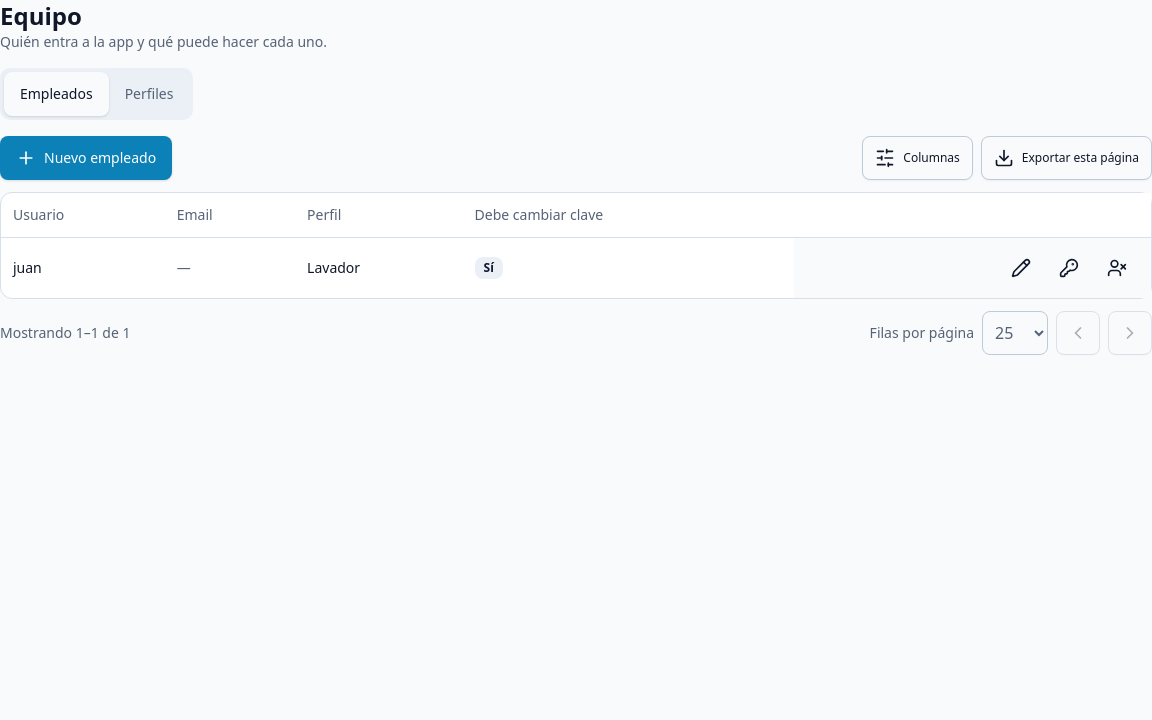
Empleados › edición: un error sin campo queda arriba del botón; cancelar cierra
Click the button named "Editar juan".
click(1021, 268)  # box [999,246,1043,290]
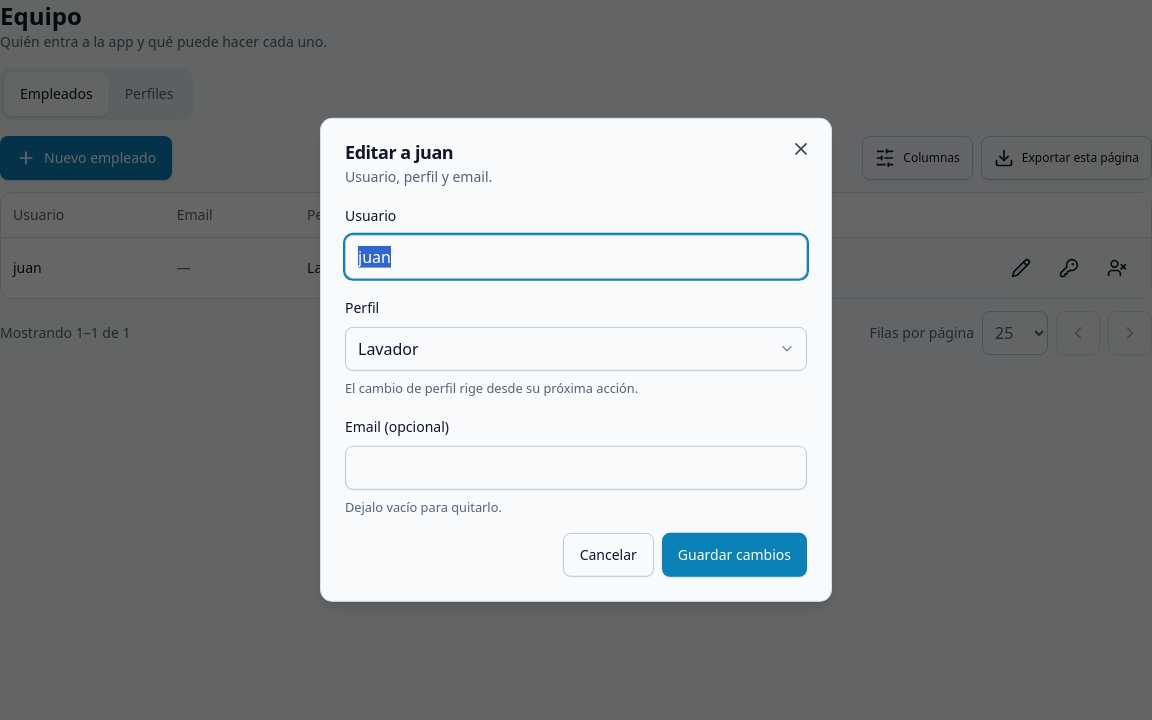
Click the button "Guardar cambios".
click(734, 555)  # box [662,533,807,577]
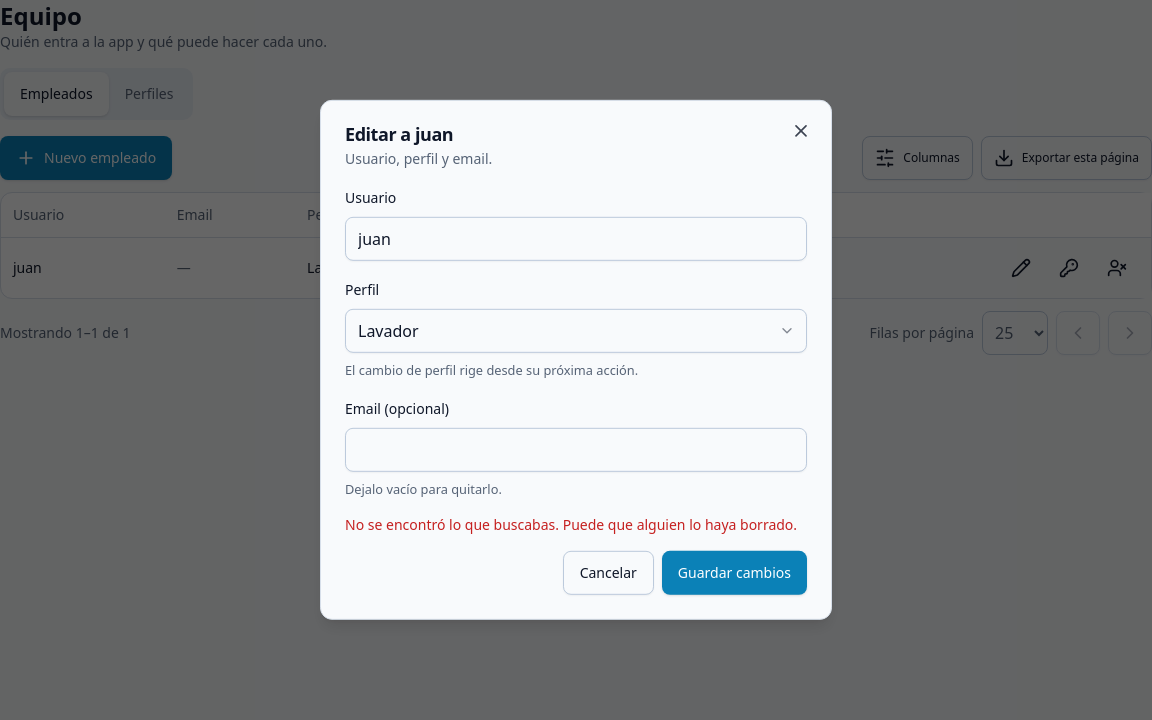
Click the button "Cancelar".
click(608, 573)  # box [563,551,654,595]
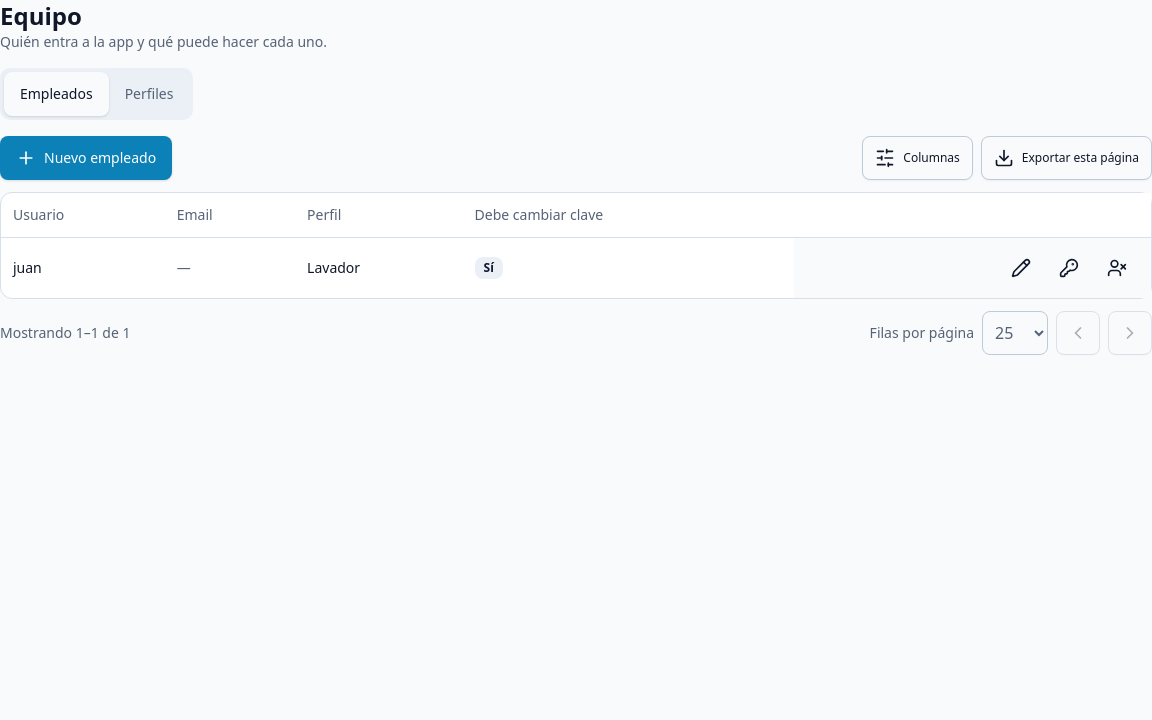
Expected: the dialog is gone
